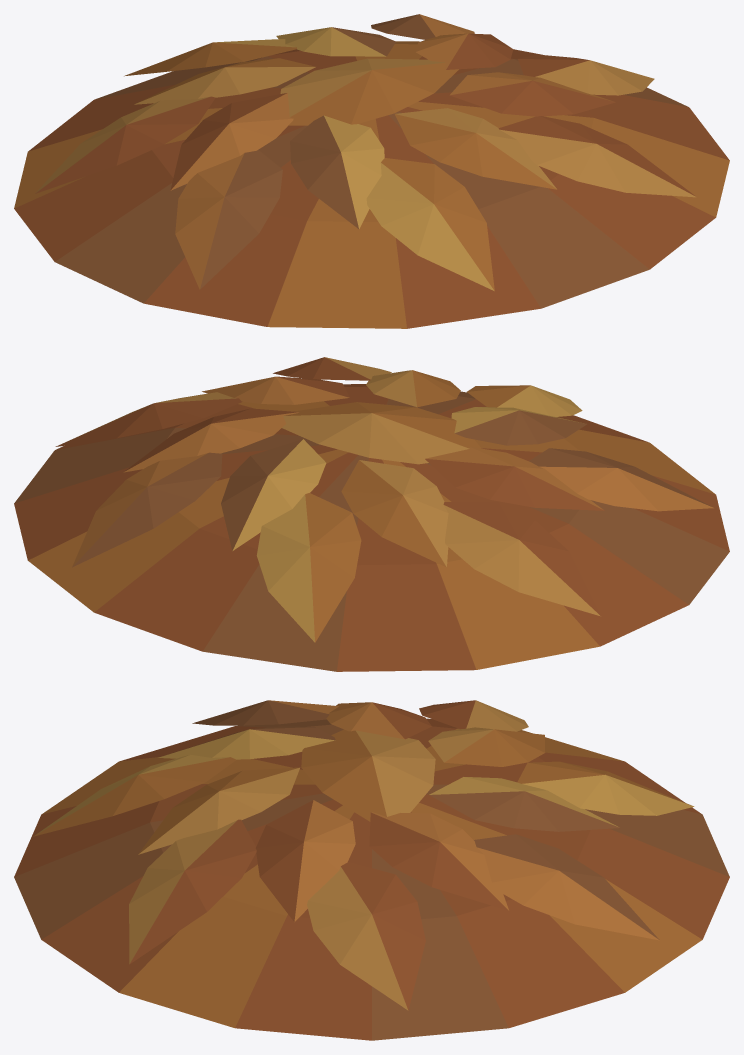
File: AutumnLeafPileMound.glb
3 renders of one model, top to bottom at view 1: azimuth 30°, elevation 25°; view 2: azimuth 150°, elevation 25°; view 3: azimuth 270°, elevation 25°, orthographic. The views are drawn at different scales.
Visible parts, largest first — view 1: AutumnLeafPileMound_Leaves; view 2: AutumnLeafPileMound_Leaves; view 3: AutumnLeafPileMound_Leaves.
Part boxes in pixels (x1,y1,x2,y2): AutumnLeafPileMound_Leaves: (14, 14, 729, 328); AutumnLeafPileMound_Leaves: (14, 357, 729, 671); AutumnLeafPileMound_Leaves: (14, 700, 729, 1040).
Bounding box in the file's own units: 0.8 × 0.138 × 0.74.
